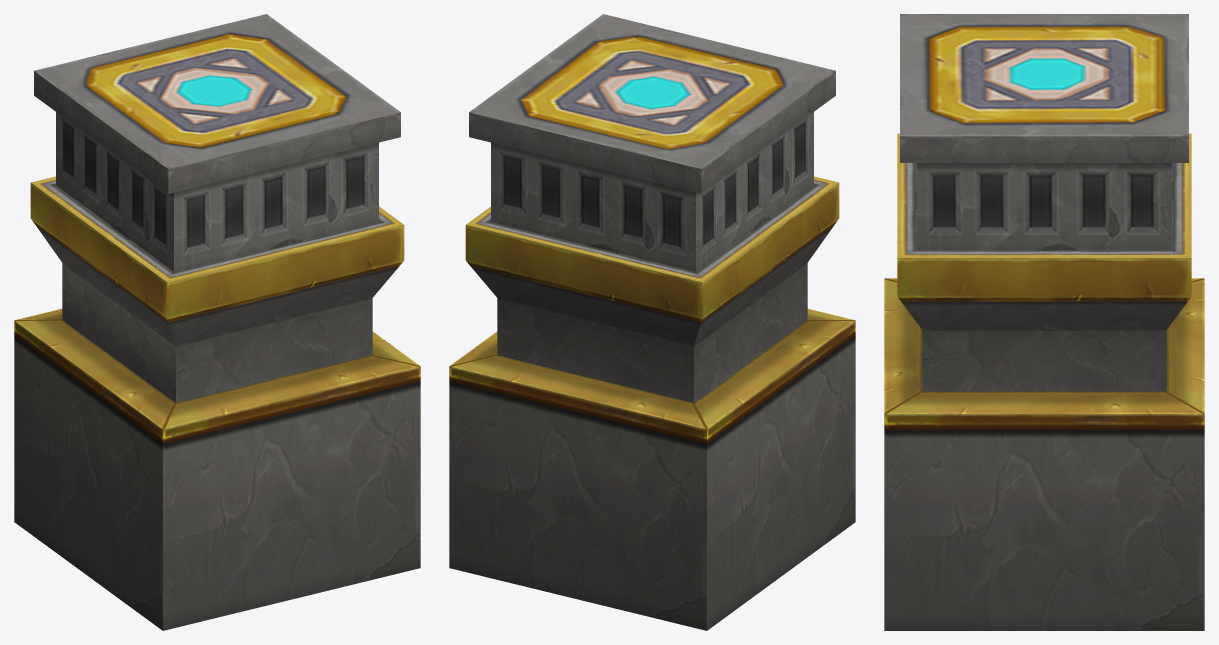
Rendered from t_xiaowujian08.FBX.
3 views of the same model, side by side, from view 1: azimuth 30°, elevation 25°; view 2: azimuth 150°, elevation 25°; view 3: azimuth 270°, elevation 25° (orthographic). The views are drawn at different scales.
Parts seen in each view (by area): view 1: t_xiaowujian08; view 2: t_xiaowujian08; view 3: t_xiaowujian08.
Part boxes in pixels (box(x1,y1,x2,y2)): t_xiaowujian08: box(14, 14, 420, 630); t_xiaowujian08: box(449, 14, 855, 630); t_xiaowujian08: box(884, 14, 1204, 630).
Bounding box in the file's own units: 282 × 475 × 282.
